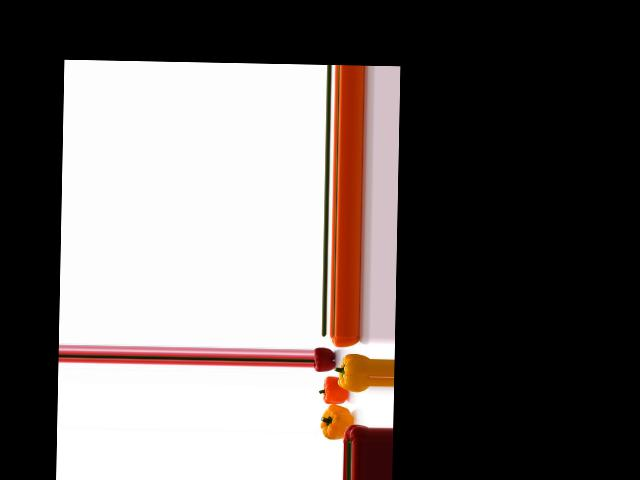bell_pepper: (328, 334, 359, 349)
